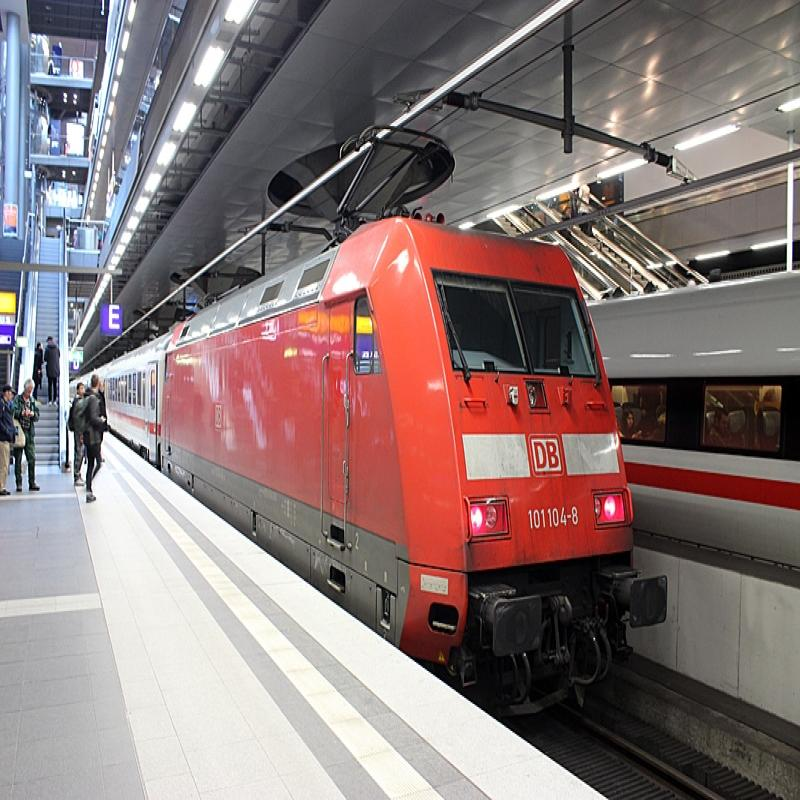train: (116, 298, 796, 597)
